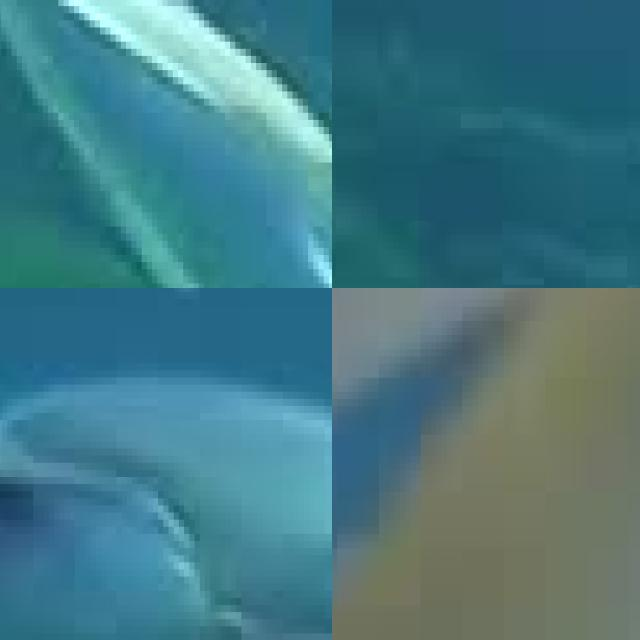fish: (332, 288, 640, 640), (0, 0, 332, 288)
